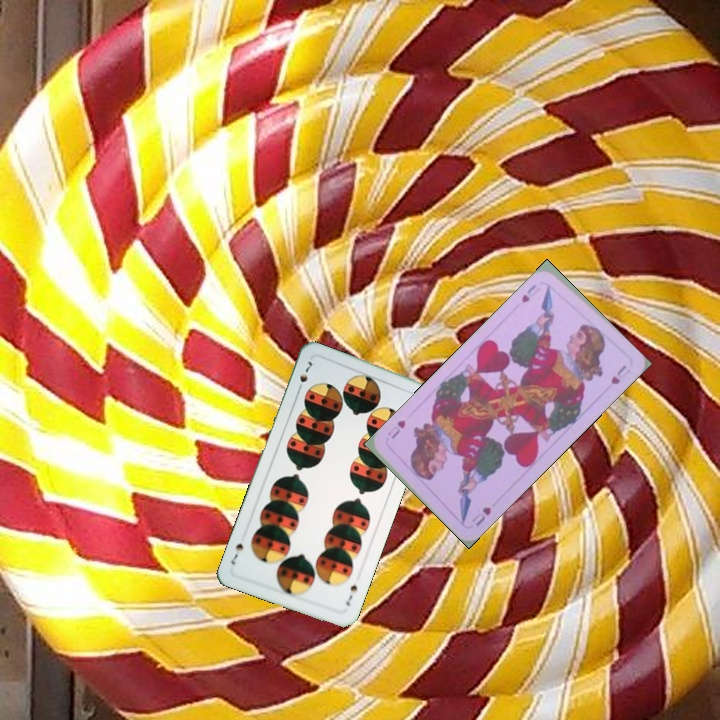HU: (517, 279, 550, 305), (468, 503, 493, 529)
S7: (293, 357, 315, 395), (342, 581, 360, 609)
